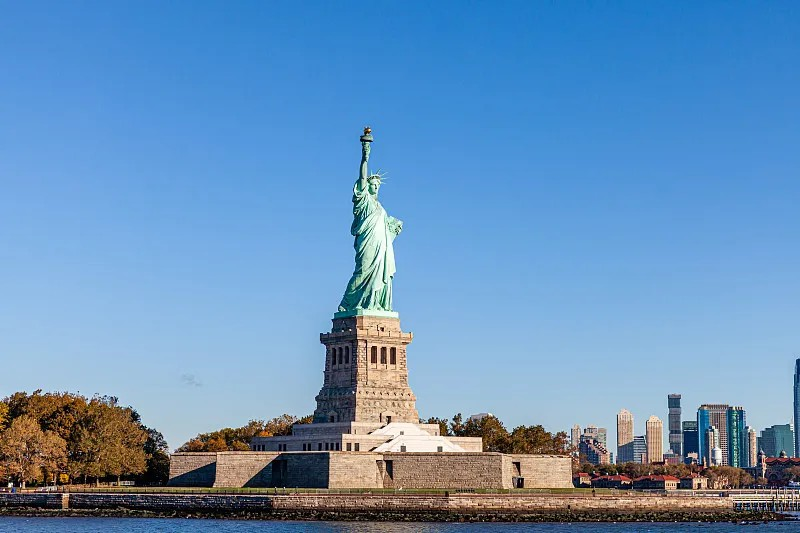SL: (312, 127, 420, 422)
